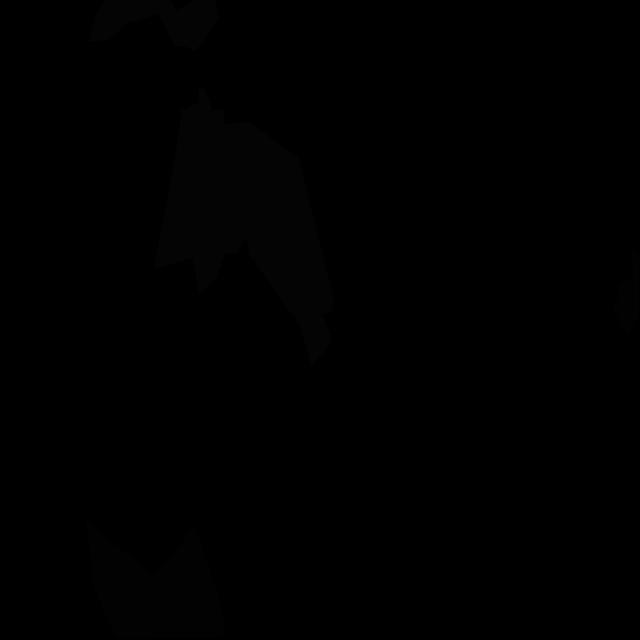cardboard: (86, 521, 226, 639), (612, 250, 640, 333)
soft_plastic: (154, 87, 334, 367), (88, 0, 219, 51)
